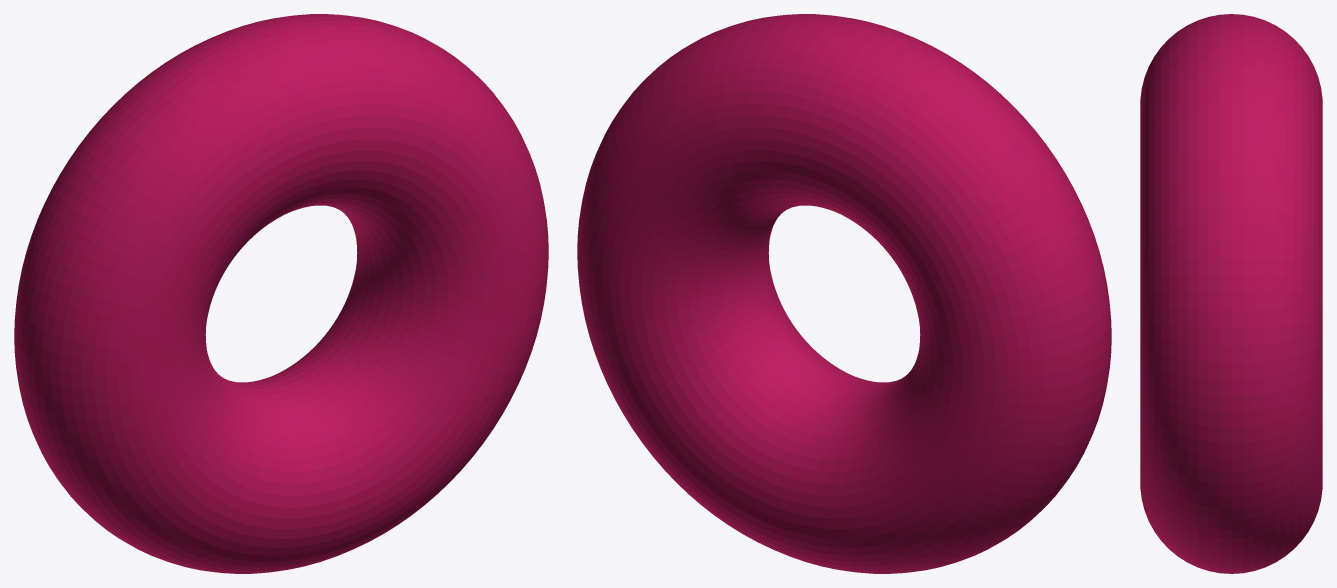
3 views of the same model, side by side, from view 1: azimuth 30°, elevation 25°; view 2: azimuth 150°, elevation 25°; view 3: azimuth 270°, elevation 25° (orthographic). The views are drawn at different scales.
Visible parts, largest first — view 1: world; view 2: world; view 3: world.
Part boxes in pixels (x1=…): world: x1=14, y1=14, x2=548, y2=573; world: x1=577, y1=14, x2=1111, y2=573; world: x1=1140, y1=14, x2=1322, y2=573.
Size of the model in its own units: 30.67 by 30.67 by 9.98.
